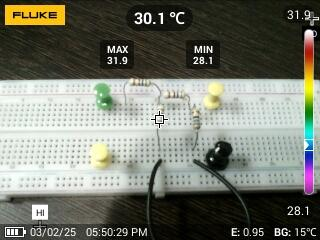resistor: (126, 74, 155, 88), (189, 106, 203, 133), (161, 89, 187, 101), (154, 103, 167, 126)
